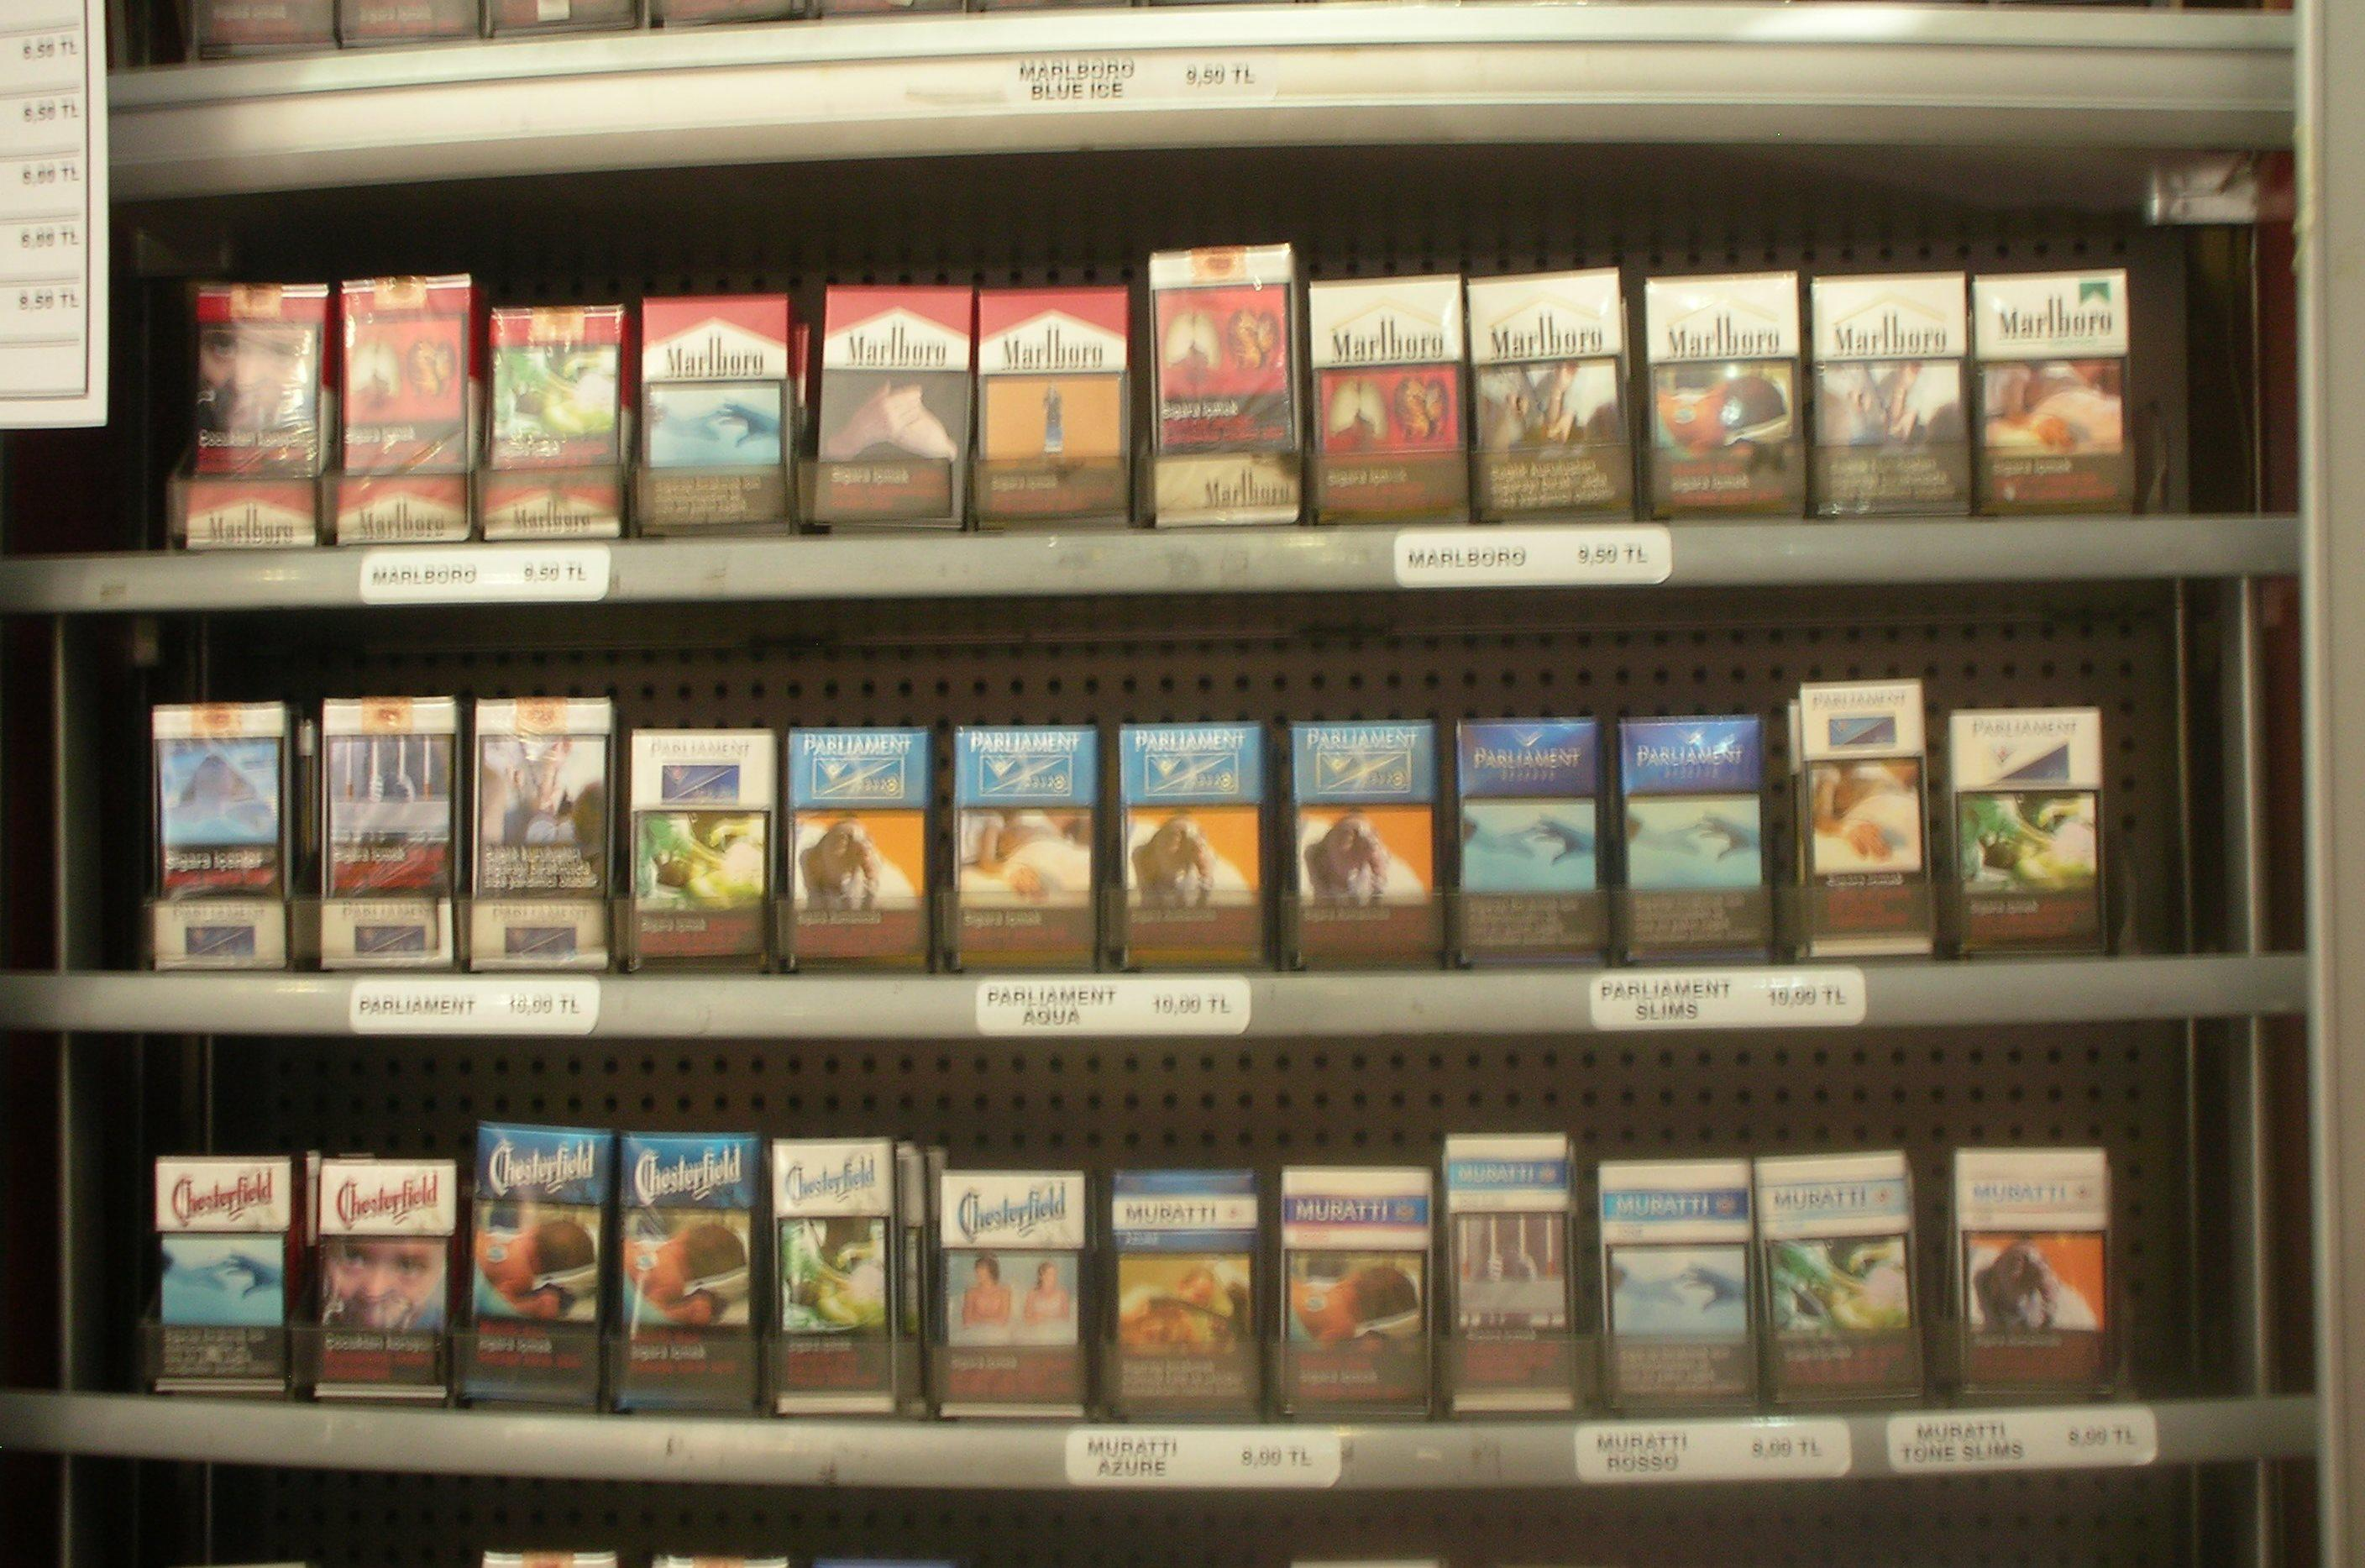product: (166, 262, 338, 565), (1142, 240, 1308, 536), (317, 262, 488, 544), (1933, 697, 2111, 959), (750, 1129, 911, 1412), (458, 1116, 619, 1398), (602, 1123, 763, 1405), (1597, 1146, 1762, 1416), (1751, 1136, 1915, 1405), (1949, 1129, 2113, 1398), (938, 712, 1106, 975), (1445, 700, 1613, 963), (770, 712, 938, 975), (612, 716, 780, 978), (1116, 707, 1284, 968), (1273, 707, 1441, 968), (1613, 703, 1781, 964), (1266, 1153, 1429, 1419), (1102, 1157, 1265, 1421), (145, 697, 303, 968), (313, 693, 471, 964), (458, 697, 616, 968), (929, 1157, 1090, 1421), (1441, 1127, 1583, 1419), (962, 276, 1134, 518), (638, 287, 810, 528), (806, 273, 978, 514), (296, 1146, 462, 1395), (145, 1150, 310, 1398), (1802, 672, 1945, 955), (474, 287, 633, 539), (1466, 269, 1634, 502), (1634, 266, 1802, 499), (1970, 269, 2138, 502), (1305, 276, 1473, 507), (1805, 273, 1973, 504)
